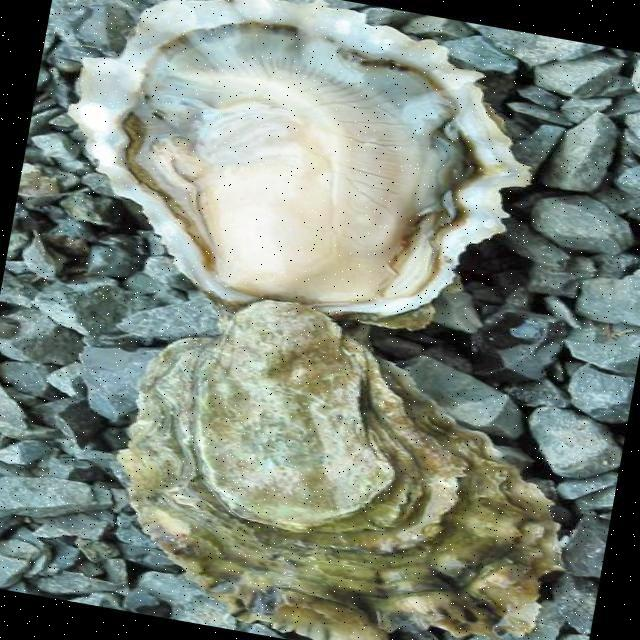Oyster-Closed: (116, 301, 563, 640)
Oyster-Open: (105, 2, 527, 331)
